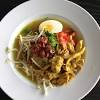soto: (1, 9, 100, 95)
